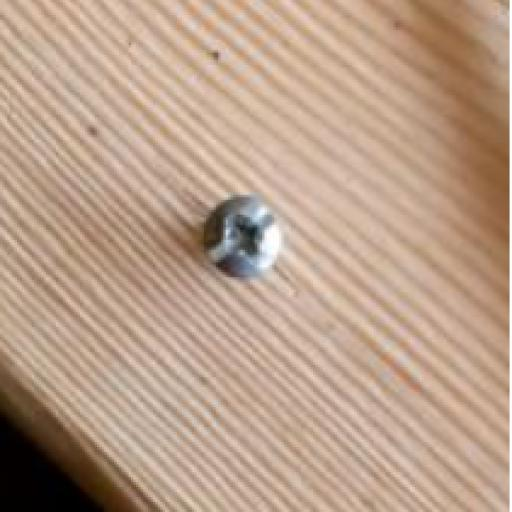Phillips: (199, 194, 284, 284)
